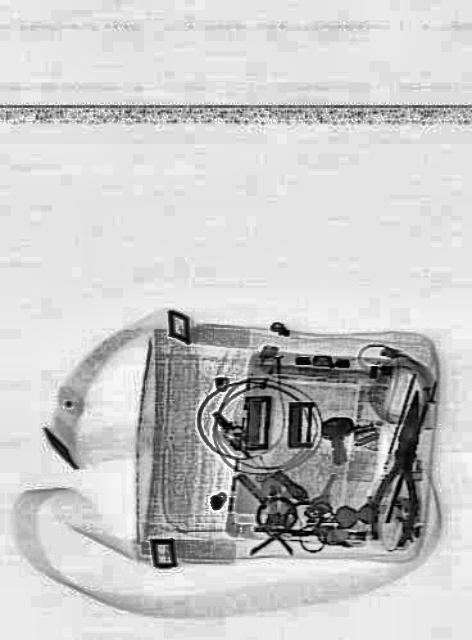Pliers: (364, 384, 439, 550)
